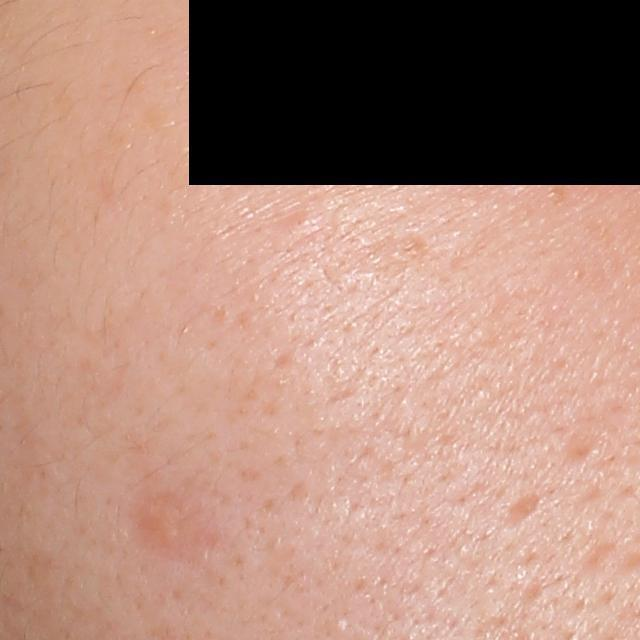atrophic_scar: (499, 490, 543, 533), (580, 533, 618, 573), (560, 437, 596, 468)
comedo: (330, 614, 351, 635)
